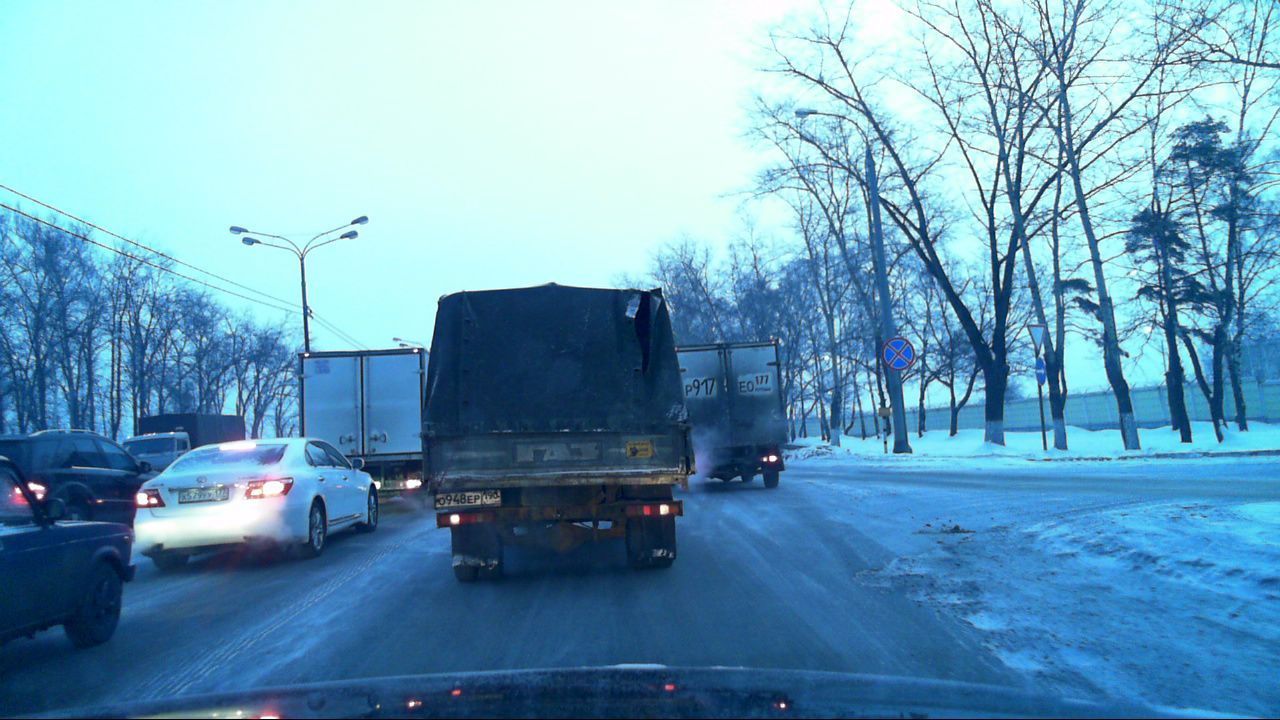No Parking: (881, 337, 914, 371)
